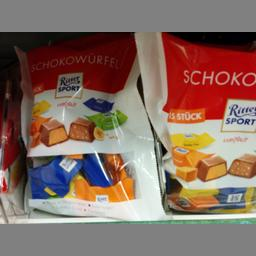chocolate: (17, 38, 160, 217), (145, 34, 255, 212)
